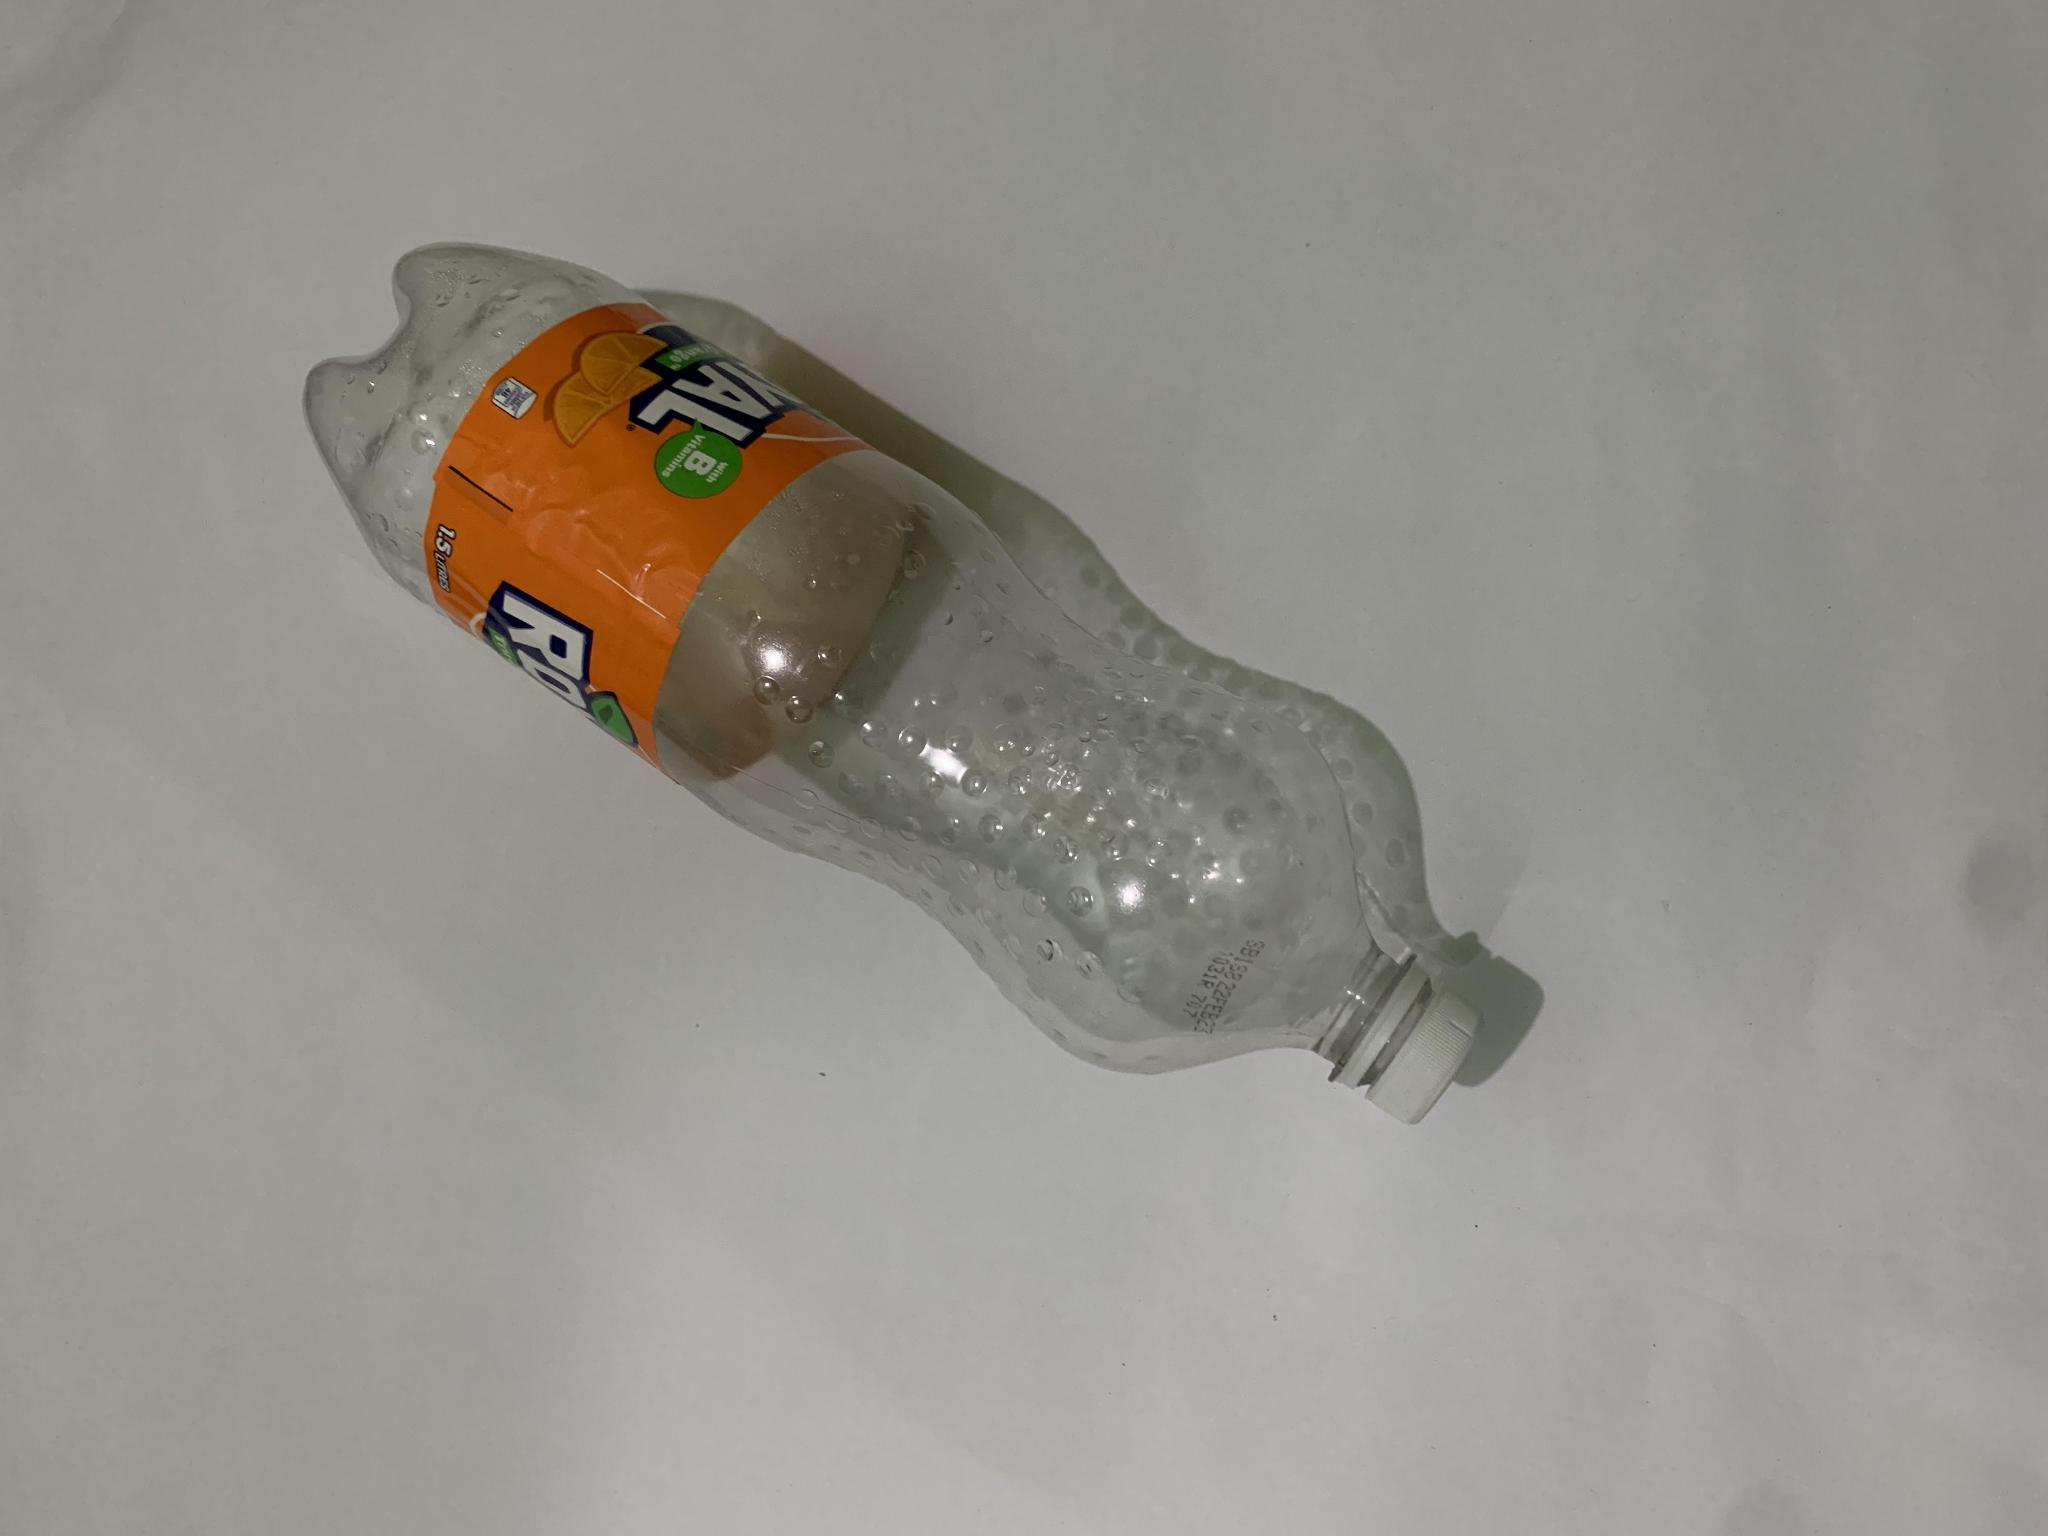bottle: (273, 208, 1569, 1150)
